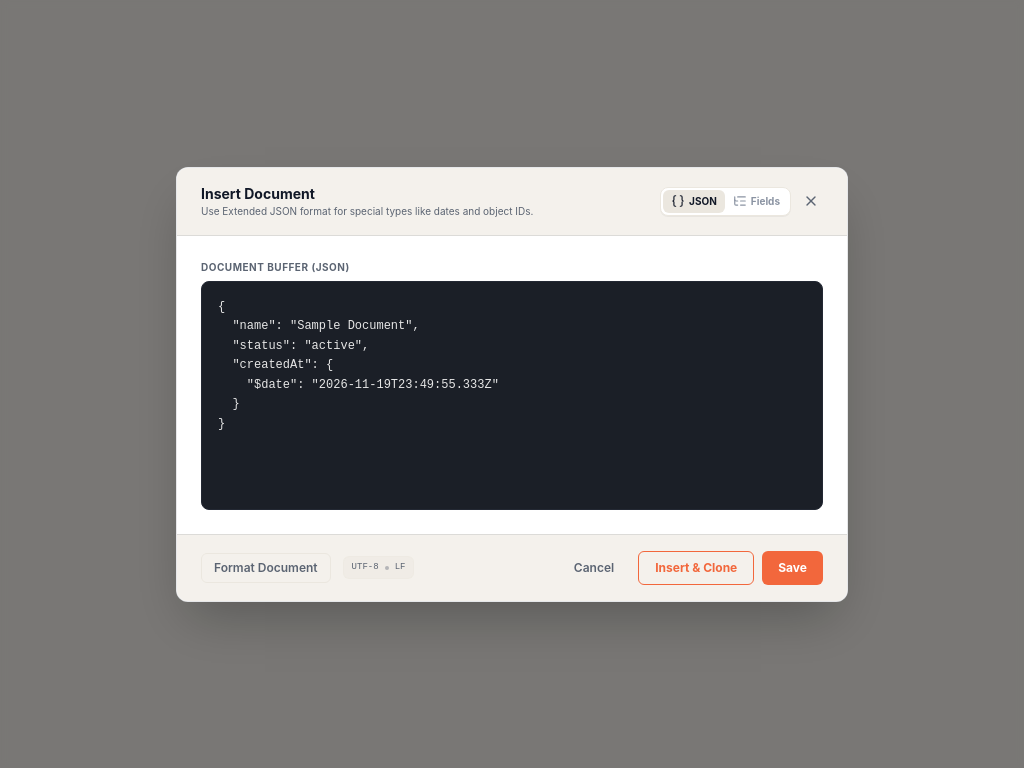
DocumentEditorModal › shows format error banner when Format is clicked with invalid JSON
The image size is (1024, 768).
Replace the text in the text box with "not-json". click: (512, 395)
box: [201, 280, 823, 510]
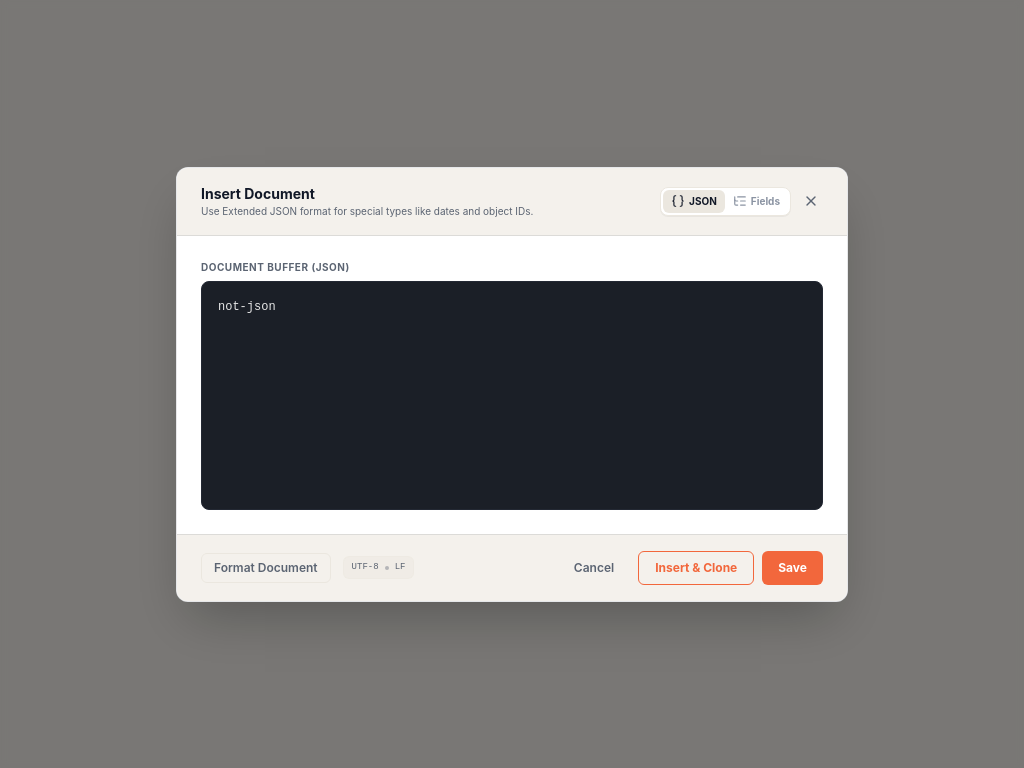
Click the button "Format Document". click: (266, 568)
box: [201, 552, 331, 582]
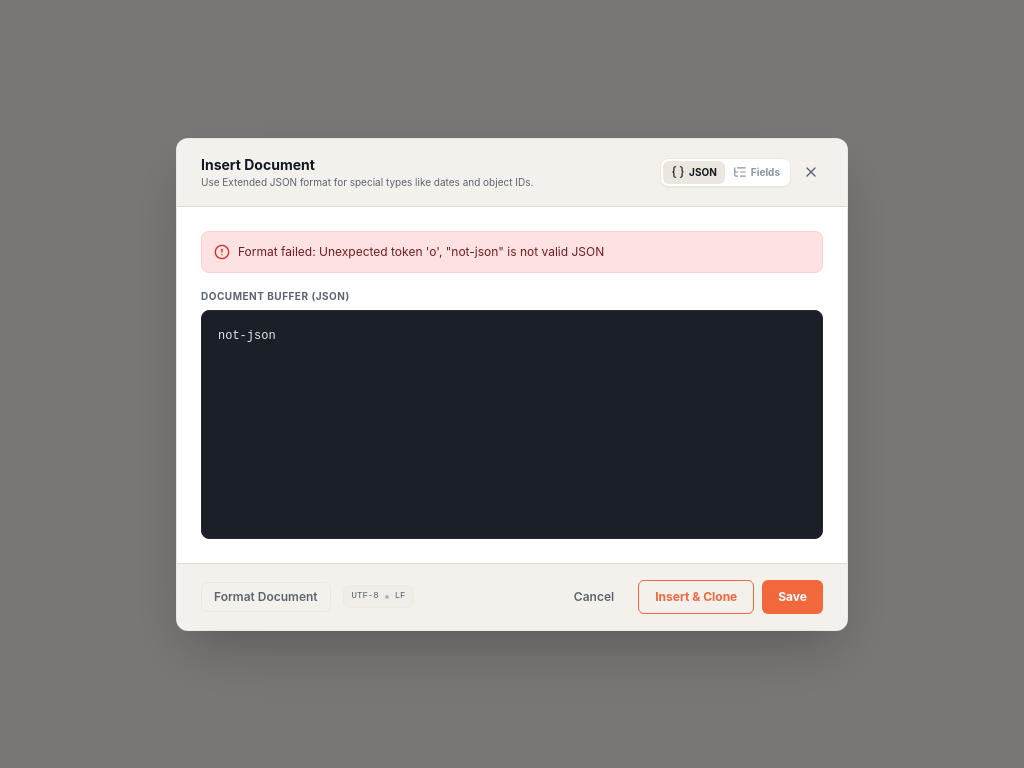
Check: the text "Format failed:" is shown, box [238, 244, 604, 258]
